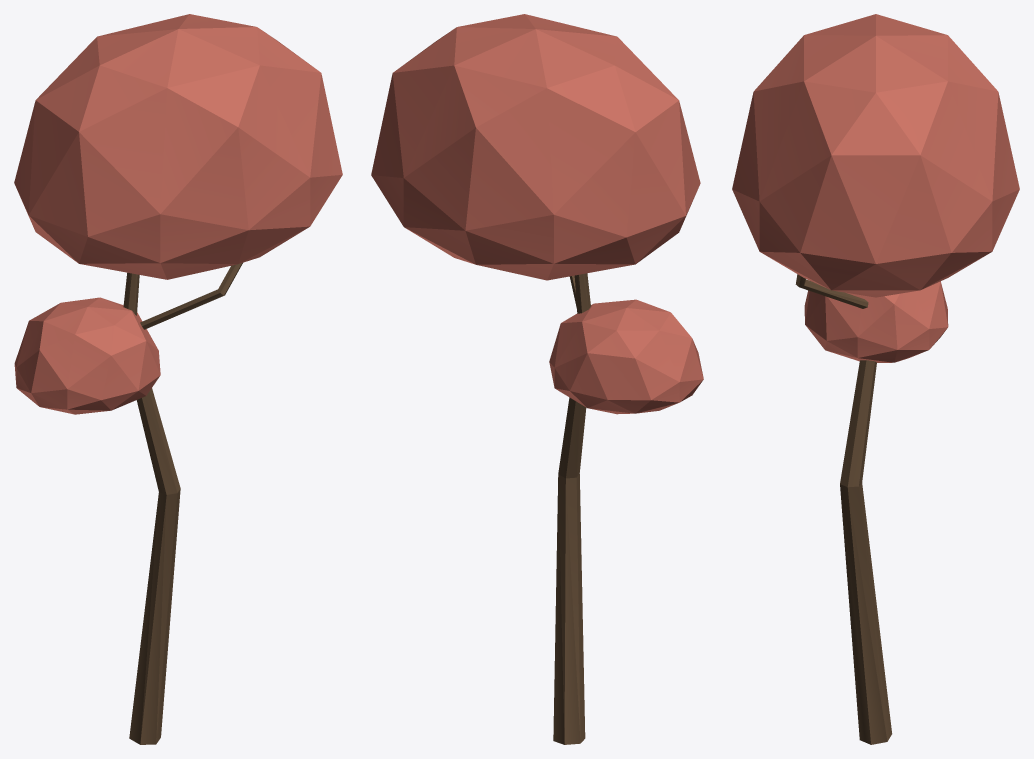
Rendered from tree_red_4.glb.
3 views of the same model, side by side, from view 1: azimuth 30°, elevation 25°; view 2: azimuth 150°, elevation 25°; view 3: azimuth 270°, elevation 25° (orthographic). The views are drawn at different scales.
Visible parts, largest first — view 1: Tree Red 4; view 2: Tree Red 4; view 3: Tree Red 4.
Boxes of the visible parts, bbox=[...] form: Tree Red 4: bbox=[14, 14, 342, 744]; Tree Red 4: bbox=[371, 14, 703, 744]; Tree Red 4: bbox=[732, 14, 1019, 744].
Size of the model in its own units: 0.172 by 0.3755 by 0.1362.
